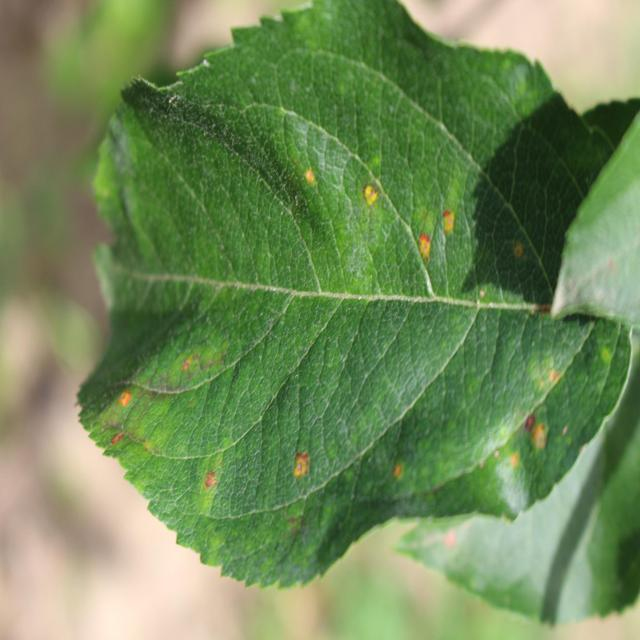Rust: (282, 439, 320, 490), (415, 219, 439, 284), (526, 404, 550, 464), (435, 204, 468, 247), (353, 179, 386, 221), (298, 154, 323, 205), (385, 452, 420, 487), (193, 471, 235, 498), (493, 445, 530, 475), (111, 374, 135, 418), (509, 235, 527, 272)
